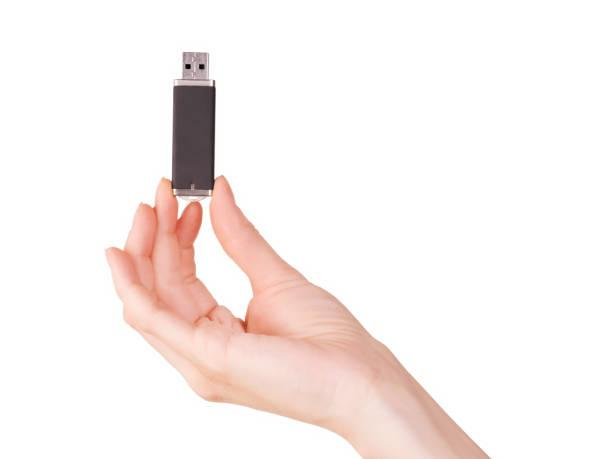USB Flash Drive: (172, 50, 217, 202)
